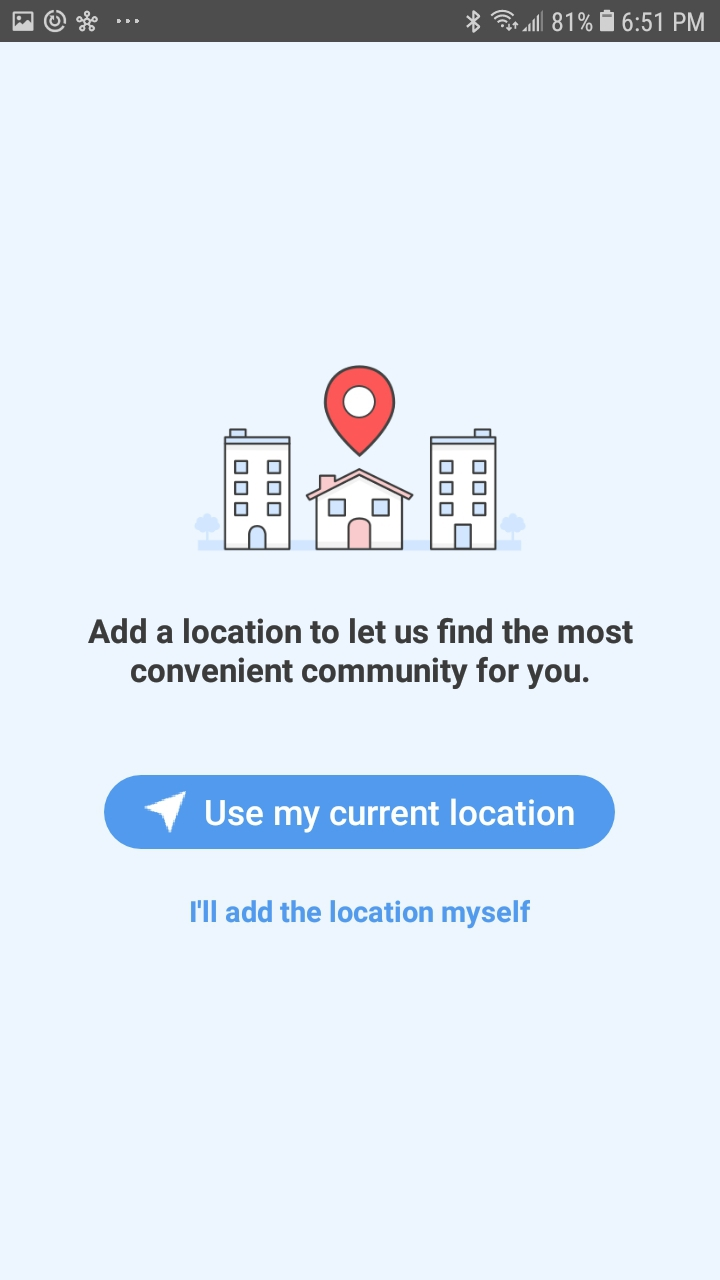Image: (195, 364, 527, 552)
Text: (88, 617, 634, 690), (191, 899, 531, 929)
TextButton: (104, 775, 616, 850)
UpperTaskBar: (1, 1, 720, 43)
